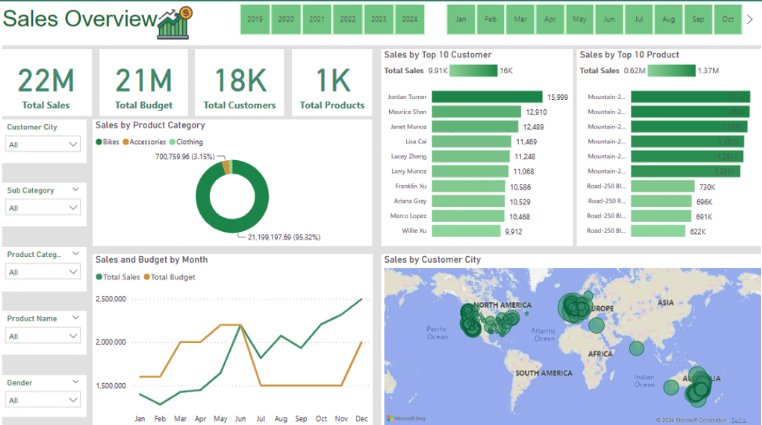

The dashboard page shown, as its layout file describes it:
{"tool":"powerbi","page":{"name":"Sales Overview","canvas":[1280,720],"ordinal":0},"visuals":[{"type":"textbox","box":[0,0,1280.2,76.3],"z":0},{"type":"slicer","fields":{"Values":["DIM_Customer.Customer City"]},"box":[0,200,146.3,73.1],"z":1000},{"type":"slicer","fields":{"Values":["DIM_Product.Sub Category"]},"box":[0,306.7,146.3,73.1],"z":2000},{"type":"slicer","fields":{"Values":["DIM_Product.Product Category"]},"box":[0,413.4,146.3,74.6],"z":3000},{"type":"slicer","fields":{"Values":["DIM_Product.Product Name"]},"box":[0,521.6,146.3,73.1],"z":4000},{"type":"slicer","fields":{"Values":["DIM_Calendar.Date.Variation.Date Hierarchy.Year"]},"box":[377.3,0,358.6,64.8],"z":5000},{"type":"slicer","fields":{"Values":["DIM_Calendar.MonthShort"]},"box":[722.9,0,544.3,64.8],"z":6000},{"type":"donutChart","title":"Sales by Product Category","fields":{"Category":["DIM_Product.Product Category"],"Y":["Measure Table.Total Sales"]},"box":[155.5,200.2,468,211.7],"z":7000},{"type":"lineChart","title":"Sales and Budget by Month","fields":{"Y":["Measure Table.Total Sales","Measure Table.Total Budget"],"Category":["DIM_Calendar.MonthShort"]},"box":[155.2,425.4,468.7,294],"z":8000},{"type":"card","fields":{"Values":["Measure Table.Total Sales"]},"box":[0,82.1,155.2,111.9],"z":9000},{"type":"card","fields":{"Values":["Measure Table.Total Budget"]},"box":[167.7,82.1,147.8,111.9],"z":10000},{"type":"barChart","title":"Sales by Top 10 Customer","fields":{"Category":["DIM_Customer.Full Name"],"Y":["Measure Table.Total Sales"]},"box":[639.4,82.1,321.1,329.8],"z":11000},{"type":"barChart","title":"Sales by Top 10 Product ","fields":{"Y":["Measure Table.Total Sales"],"Category":["DIM_Product.Product Name"]},"box":[966.2,82.1,313.9,329.8],"z":12000},{"type":"map","title":"Sales by Customer City","fields":{"Category":["DIM_Customer.Customer City"],"Size":["Measure Table.Total Sales"]},"box":[639.4,424.8,640.8,295.2],"z":13000},{"type":"slicer","fields":{"Values":["DIM_Customer.Gender"]},"box":[0,628.4,146.3,70.1],"z":14000},{"type":"card","fields":{"Values":["Measure Table.Customers"]},"box":[327.9,82.1,149.3,111.9],"z":15000},{"type":"card","fields":{"Values":["Measure Table.Producta"]},"box":[489.6,82.1,134.3,111.9],"z":16000},{"type":"image","box":[259.7,0,68.7,76.1],"z":17000}]}

Visuals, with their boxes in screenshot pixels (x1, y1, x2, y2), scaled from the page's 1280x720 canvas onto the 762x425 screenshot:
textbox: Rect(0, 0, 761, 45)
slicer - DIM_Customer.Customer City: Rect(0, 118, 87, 161)
slicer - DIM_Product.Sub Category: Rect(0, 181, 87, 224)
slicer - DIM_Product.Product Category: Rect(0, 244, 87, 288)
slicer - DIM_Product.Product Name: Rect(0, 308, 87, 351)
slicer - DIM_Calendar.Date.Variation.Date Hierarchy.Year: Rect(225, 0, 438, 38)
slicer - DIM_Calendar.MonthShort: Rect(430, 0, 754, 38)
"Sales by Product Category" donutChart: Rect(93, 118, 371, 243)
"Sales and Budget by Month" lineChart: Rect(92, 251, 371, 424)
card - Measure Table.Total Sales: Rect(0, 48, 92, 115)
card - Measure Table.Total Budget: Rect(100, 48, 188, 115)
"Sales by Top 10 Customer" barChart: Rect(381, 48, 572, 243)
"Sales by Top 10 Product " barChart: Rect(575, 48, 761, 243)
"Sales by Customer City" map: Rect(381, 251, 761, 424)
slicer - DIM_Customer.Gender: Rect(0, 371, 87, 412)
card - Measure Table.Customers: Rect(195, 48, 284, 115)
card - Measure Table.Producta: Rect(291, 48, 371, 115)
image: Rect(155, 0, 196, 45)
